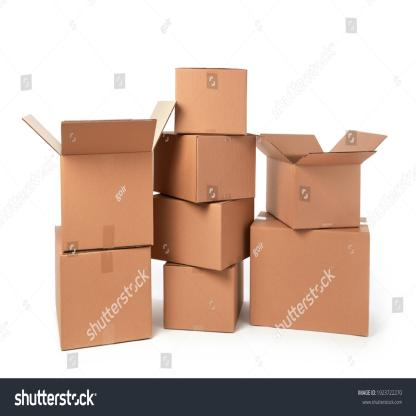box: (250, 226, 370, 337), (62, 248, 151, 351), (60, 152, 152, 251), (152, 198, 221, 270), (175, 68, 247, 134), (164, 266, 235, 332), (294, 163, 361, 230), (197, 134, 256, 204)
